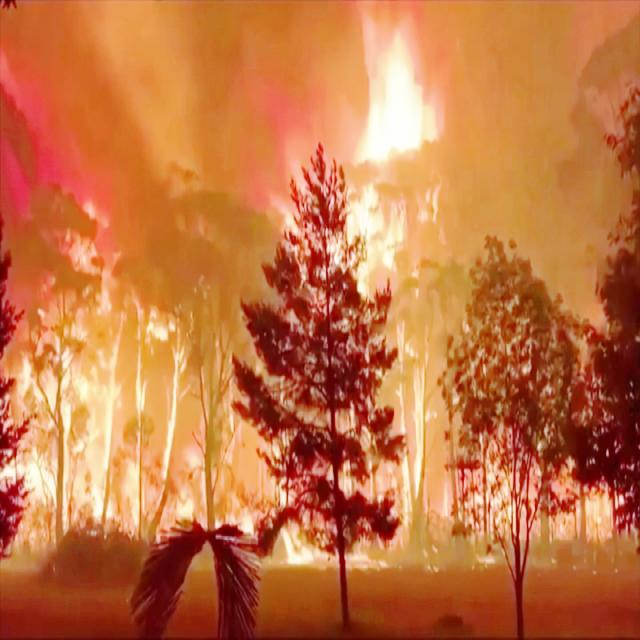api: (355, 17, 455, 272)
asap: (1, 1, 231, 314)
